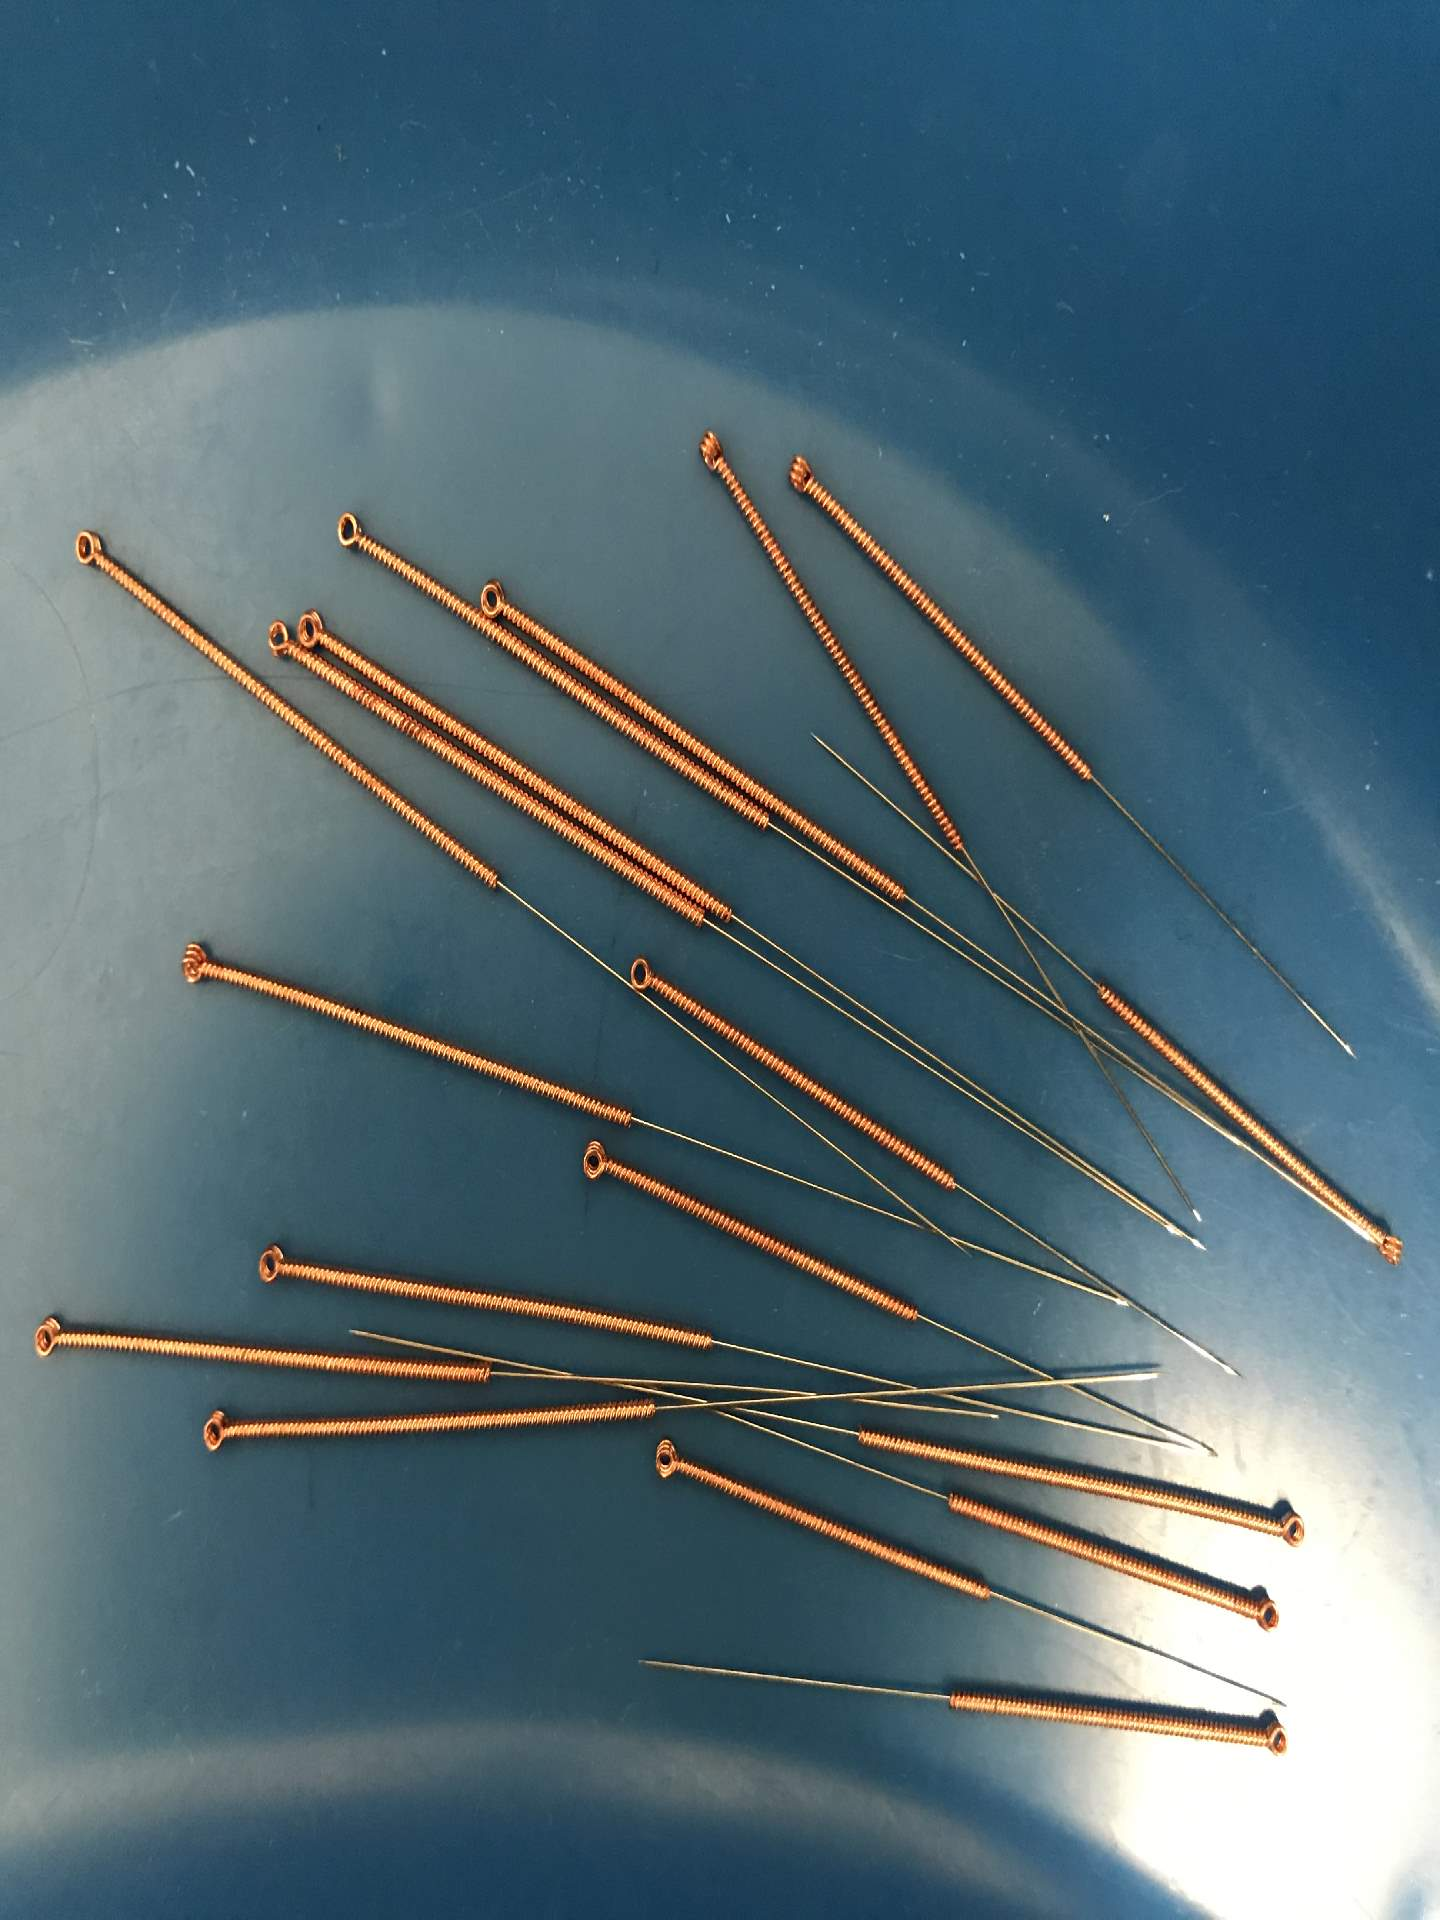needle: (779, 441, 839, 514), (638, 1430, 699, 1494), (185, 1400, 245, 1460), (165, 936, 222, 998), (563, 1126, 620, 1188), (20, 1308, 76, 1371), (324, 500, 383, 559), (244, 1234, 299, 1296), (687, 413, 735, 484), (61, 519, 113, 578), (1361, 1215, 1414, 1274), (1260, 1495, 1311, 1556), (1246, 1705, 1296, 1764), (292, 599, 342, 656), (616, 948, 669, 999), (1237, 1581, 1286, 1637), (473, 568, 520, 626), (256, 609, 303, 667)
